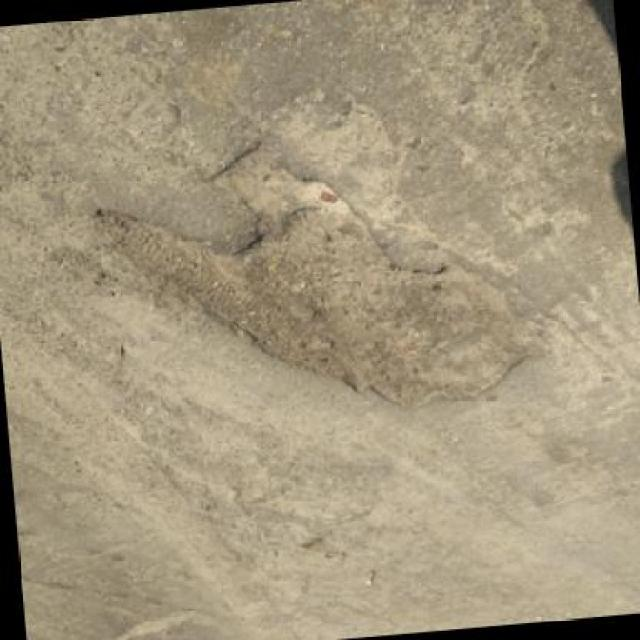pothole1: (81, 115, 562, 443)
